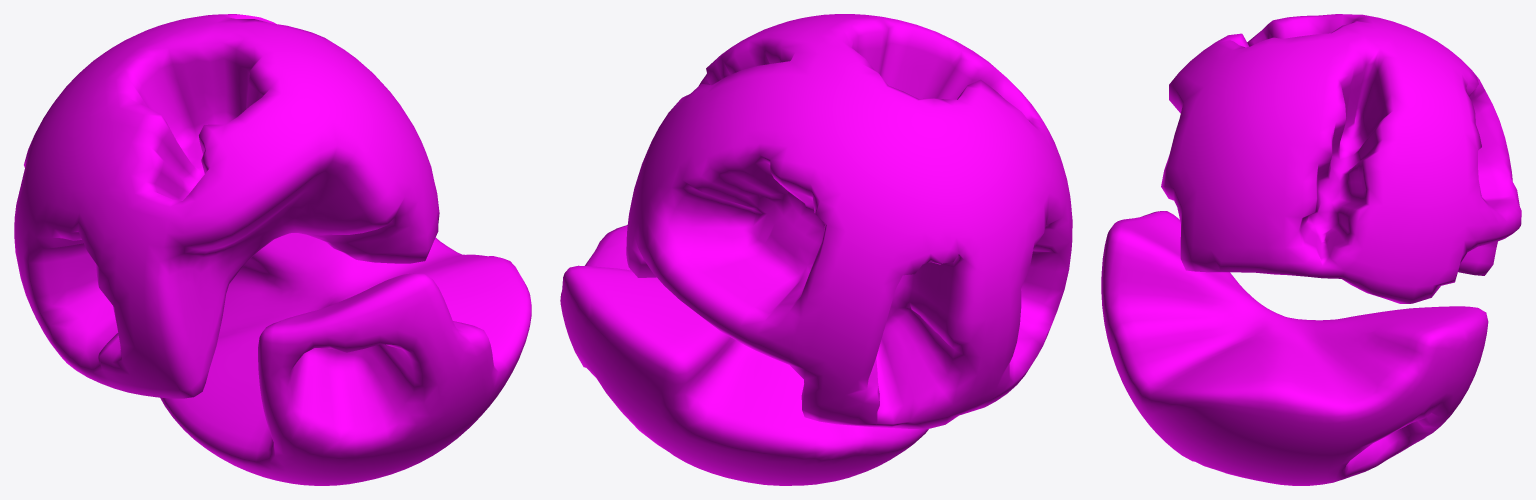
Rendered from spaceDebri_04.obj.
3 renders of one model, left to right at view 1: azimuth 30°, elevation 25°; view 2: azimuth 150°, elevation 25°; view 3: azimuth 270°, elevation 25°, orthographic. The views are drawn at different scales.
Visible parts, largest first — view 1: spaceDebri_04 debri_grp; view 2: spaceDebri_04 debri_grp; view 3: spaceDebri_04 debri_grp.
Part boxes in pixels (x1,y1,x2,y2): spaceDebri_04 debri_grp: (14,14,531,485); spaceDebri_04 debri_grp: (560,14,1072,485); spaceDebri_04 debri_grp: (1101,14,1521,485).
Size of the model in its own units: 1003 by 942 by 891.
